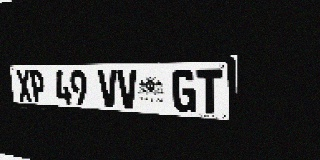4: (54, 70, 72, 105)
9: (69, 70, 89, 106)
G: (172, 69, 196, 113)
P: (29, 70, 46, 103)
T: (196, 69, 222, 114)
V: (117, 70, 138, 109), (98, 70, 119, 108)
X: (16, 70, 33, 102)
